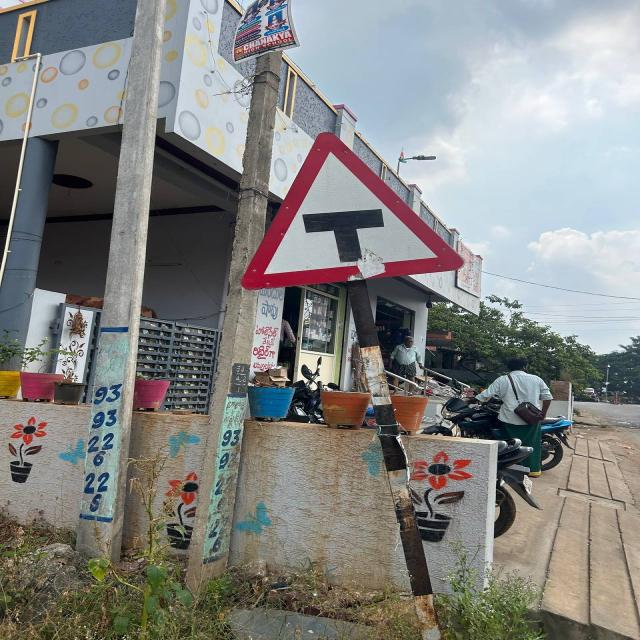tjunction_major_road_ahead: (223, 129, 470, 287)
